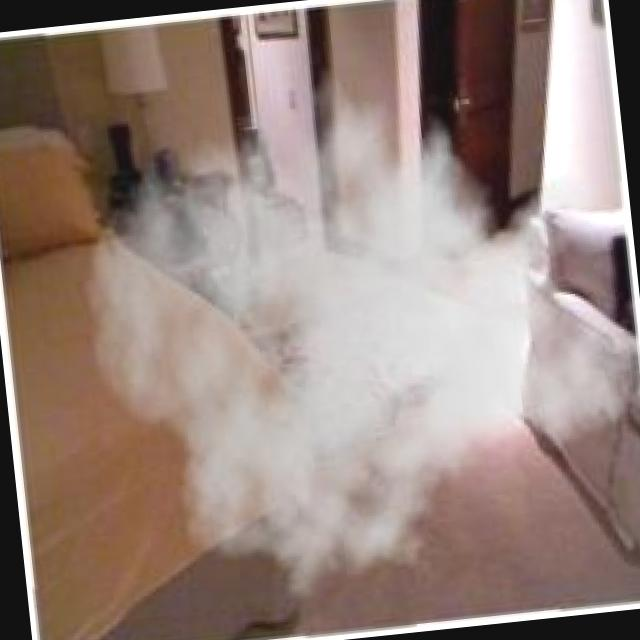smoke: (177, 135, 530, 498)
